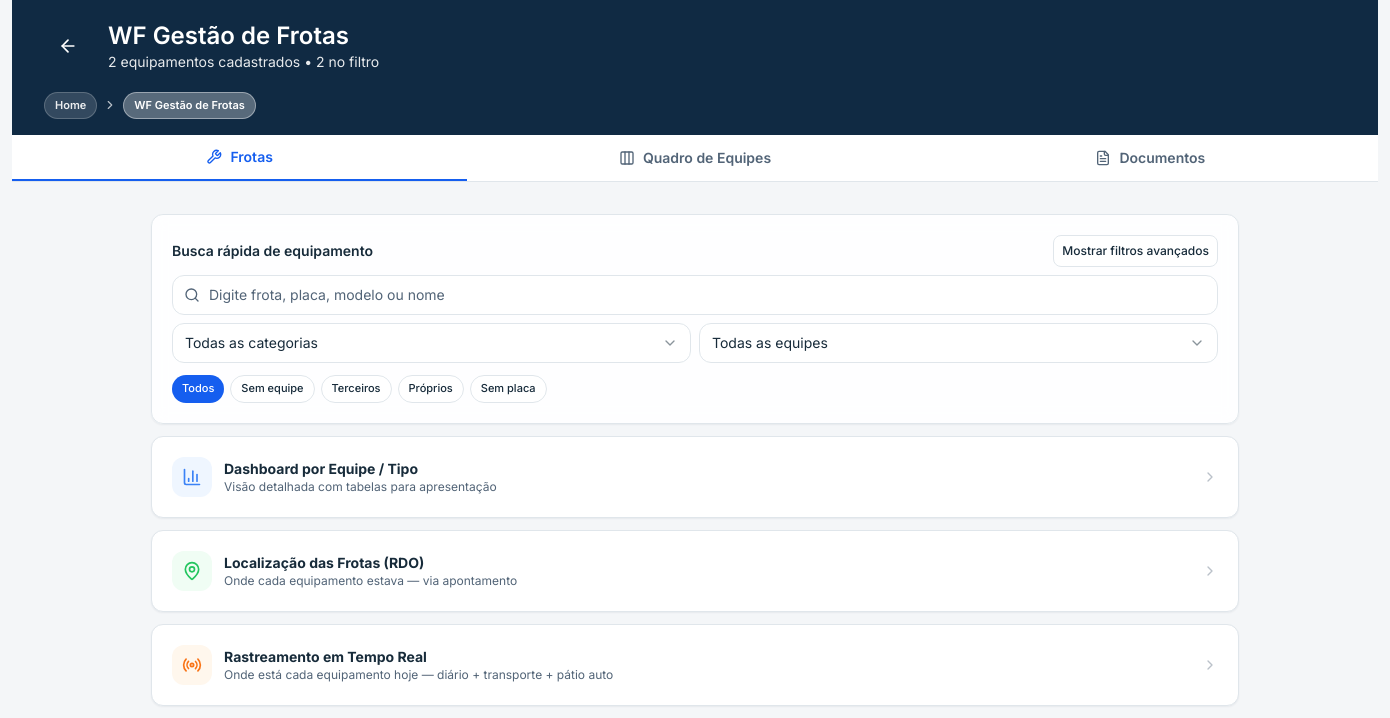
Test case: WF Gestão de Frotas desktop › preserva a busca ao alternar Frotas e Documentos
In the field with placeholder "Digite frota, placa, modelo ou nome": (695, 294) [172,274,1218,314], type "CB01"
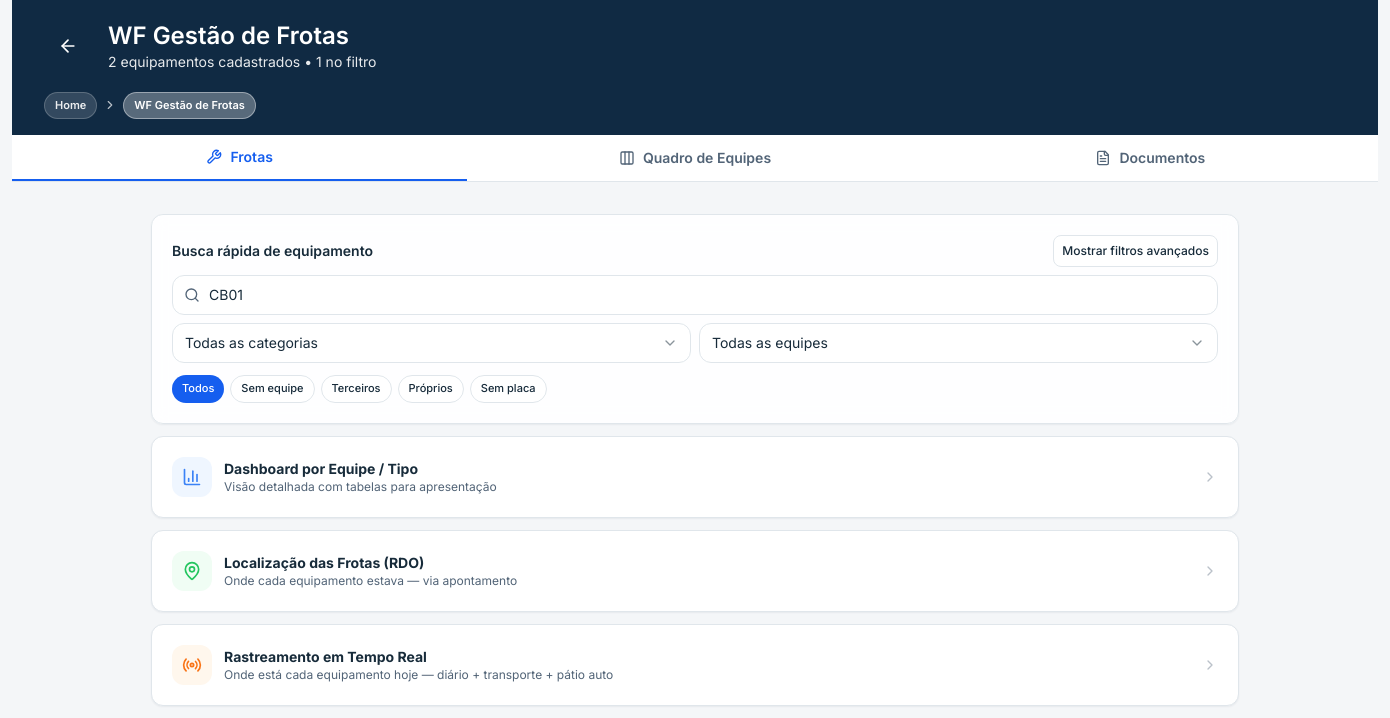
Click the button "Documentos": (1150, 158) [923,134,1378,180]
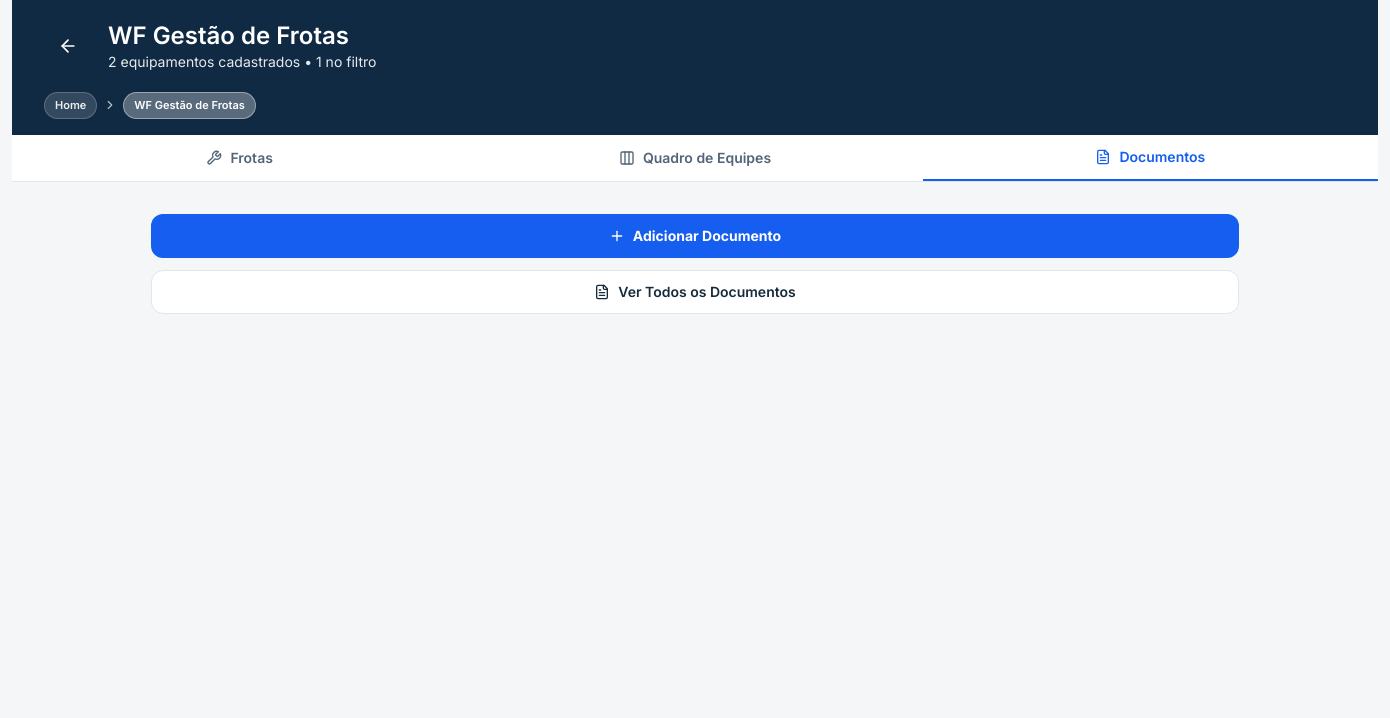
Result: the button "Ver Todos os Documentos" is shown at [151,270,1239,314]
Click the button "Frotas": (240, 158) [12,134,467,180]
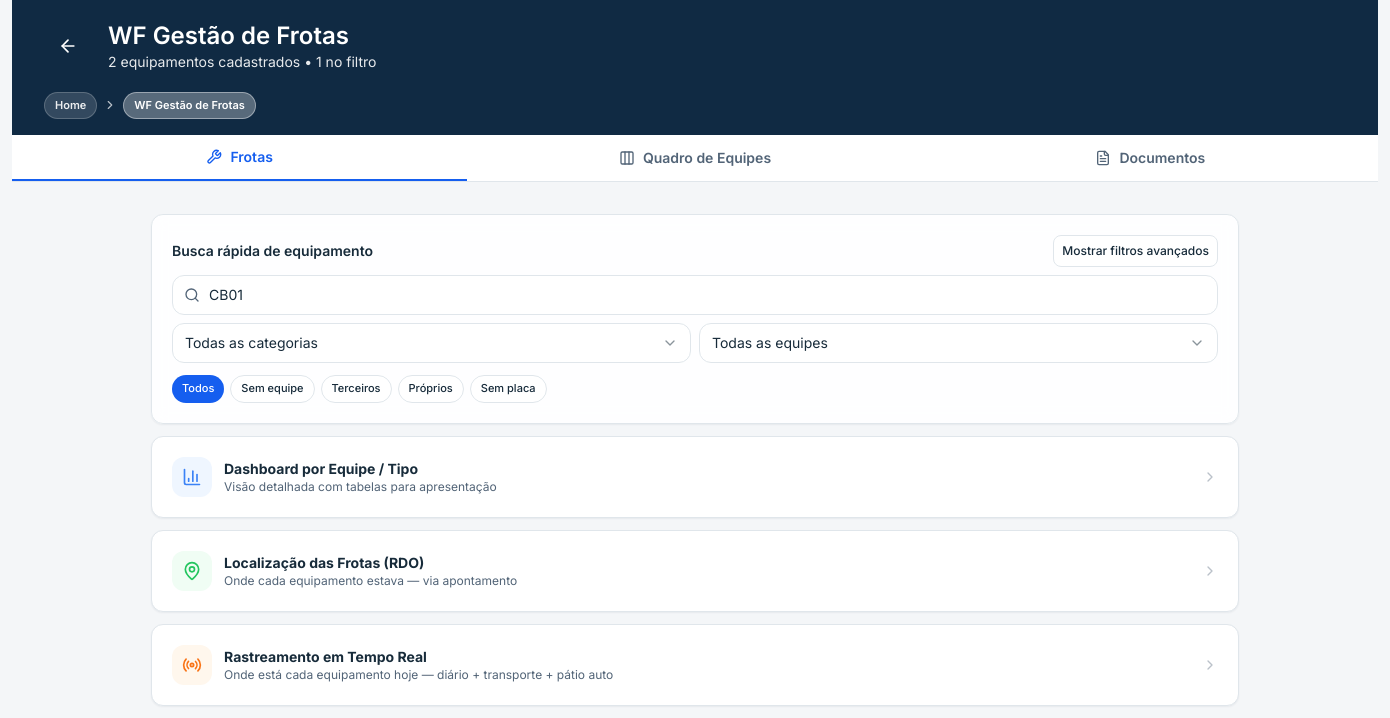
Result: the field with placeholder "Digite frota, placa, modelo ou nome" holds "CB01" at [172,274,1218,314]
